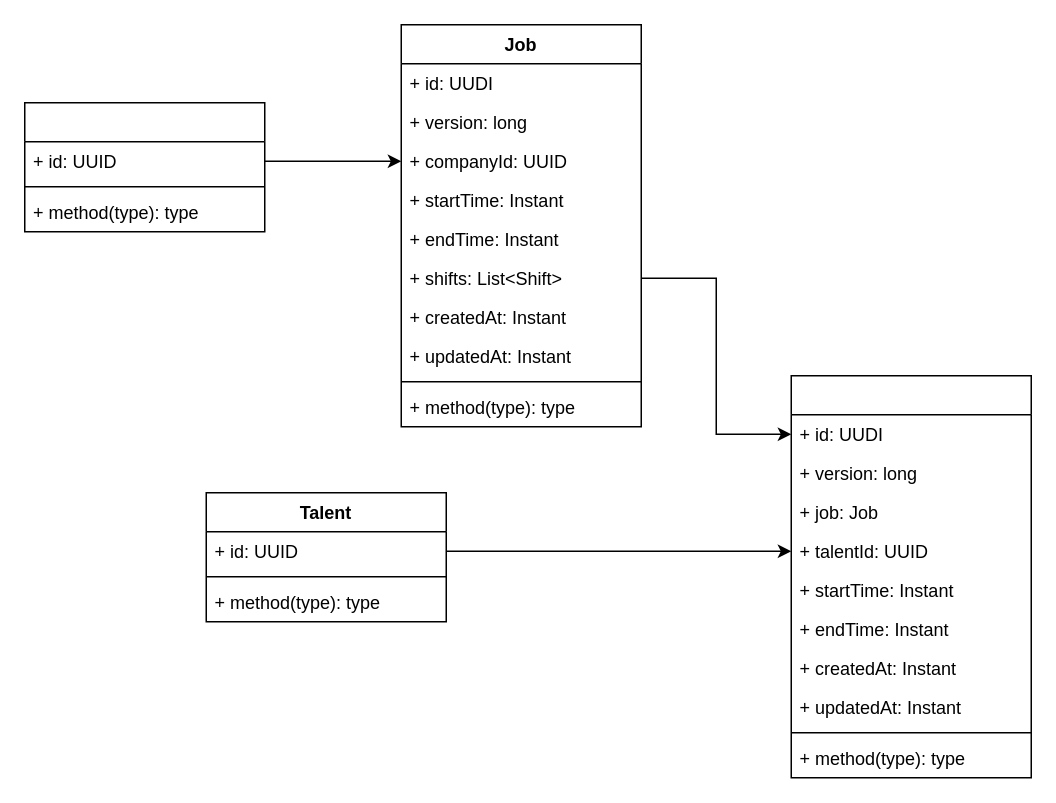
This 1056x803 diagram has some shape labels left out. Here are the shapes that lost their labels. From the top down, the box of each, then its label:
(23, 101, 265, 232): Company
(790, 374, 1031, 778): Shift
